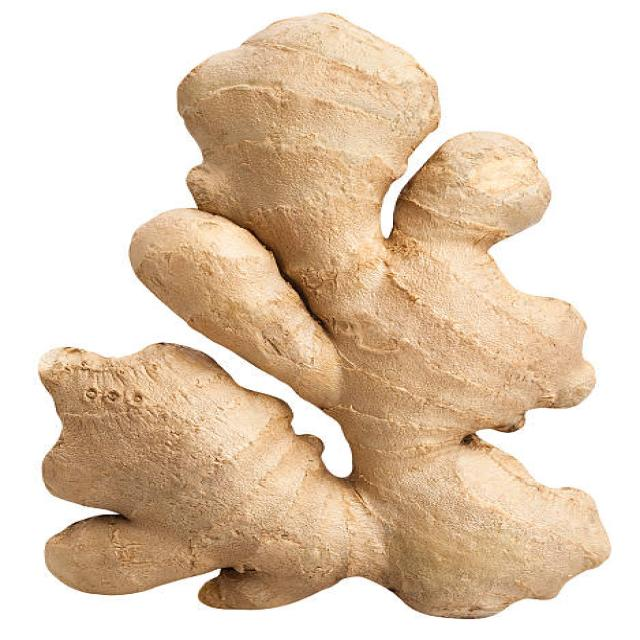ginger-root: (30, 7, 634, 622)
